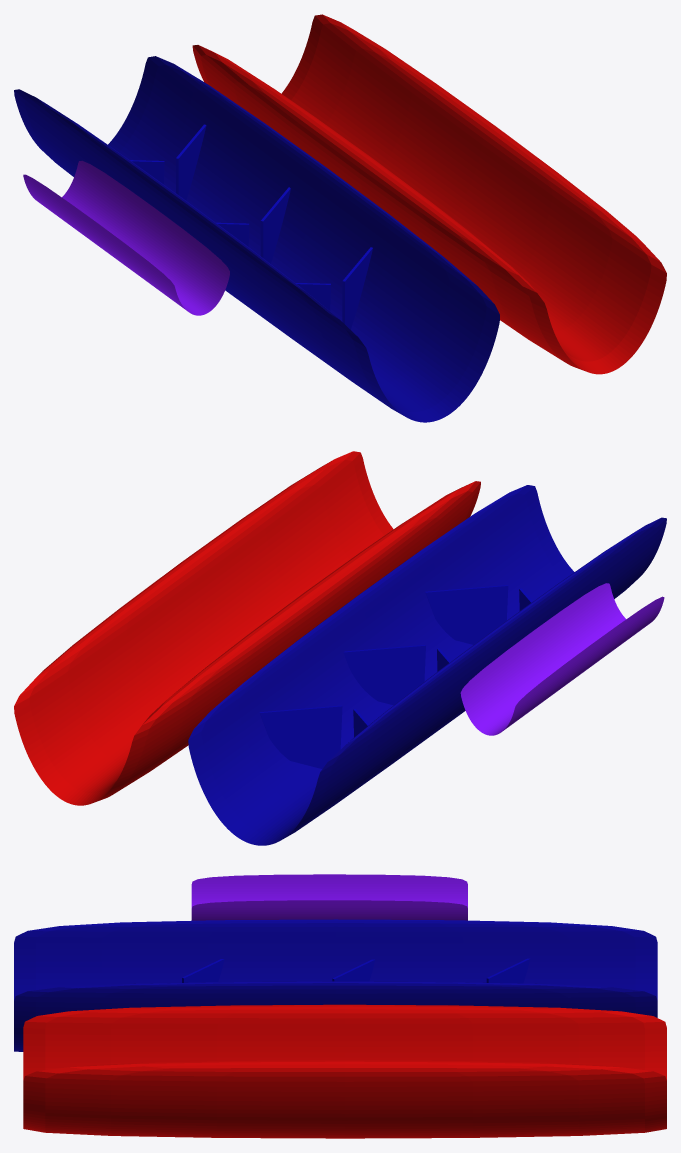
File: Blood vessels.glb
3 views of the same model, one above another, from view 1: azimuth 30°, elevation 25°; view 2: azimuth 150°, elevation 25°; view 3: azimuth 270°, elevation 25° (orthographic). The views are drawn at different scales.
Parts seen in each view (by area): view 1: Vein, Artery, Capillary, Venous Valves; view 2: Artery, Vein, Capillary, Venous Valves; view 3: Artery, Vein, Capillary, Venous Valves.
Part boxes in pixels (x1,y1,x2,y2): Vein: [14, 56, 499, 422]; Artery: [192, 14, 666, 374]; Capillary: [23, 160, 229, 315]; Venous Valves: [130, 124, 372, 329]; Artery: [14, 451, 480, 805]; Vein: [188, 485, 666, 845]; Capillary: [460, 583, 664, 735]; Venous Valves: [259, 585, 532, 768]; Artery: [23, 1004, 666, 1138]; Vein: [14, 919, 657, 1051]; Capillary: [191, 874, 467, 920]; Venous Valves: [182, 958, 530, 983].
Bounding box in the file's own units: 3.06 × 0.8508 × 4.63.
